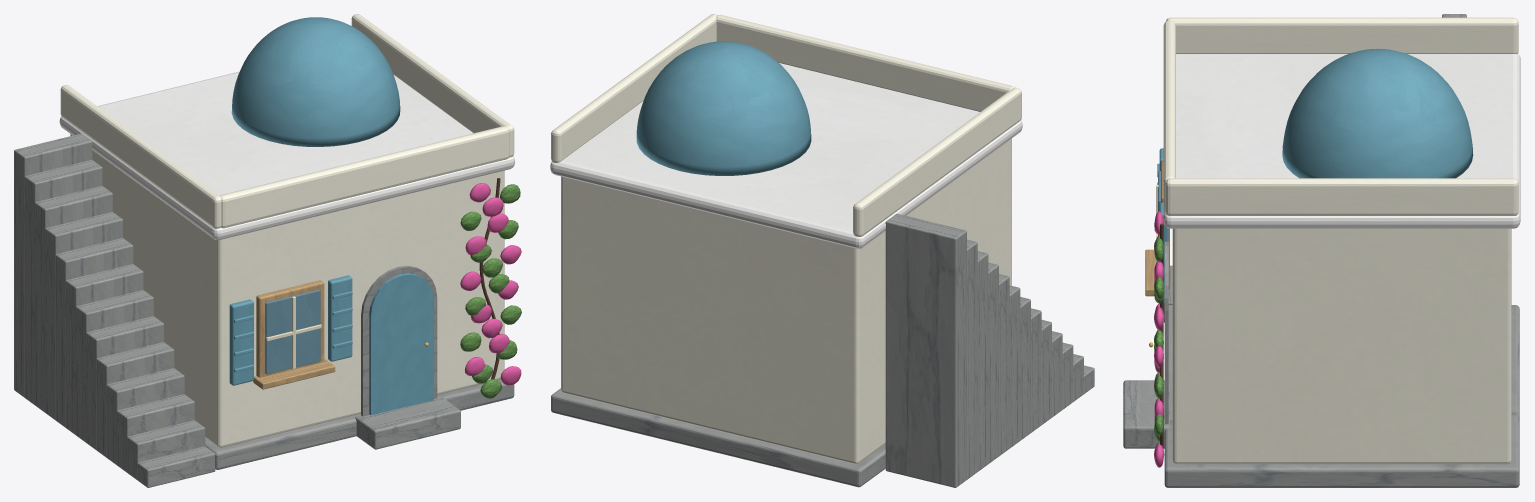
The model's file is house_3.glb.
3 renders of one model, left to right at view 1: azimuth 30°, elevation 25°; view 2: azimuth 150°, elevation 25°; view 3: azimuth 270°, elevation 25°, orthographic. The views are drawn at different scales.
Parts seen in each view (by area): view 1: house_3; view 2: house_3; view 3: house_3.
Boxes of the visible parts, left/top/right/bottom form: house_3: left=14, top=14, right=521, bottom=487; house_3: left=550, top=14, right=1094, bottom=487; house_3: left=1123, top=14, right=1520, bottom=487.
Size of the model in its own units: 5.45 by 4.63 by 4.45.
3 materials, 3 textured.
